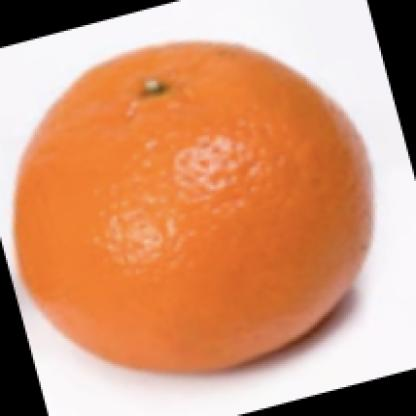fresh: (17, 42, 371, 371)
